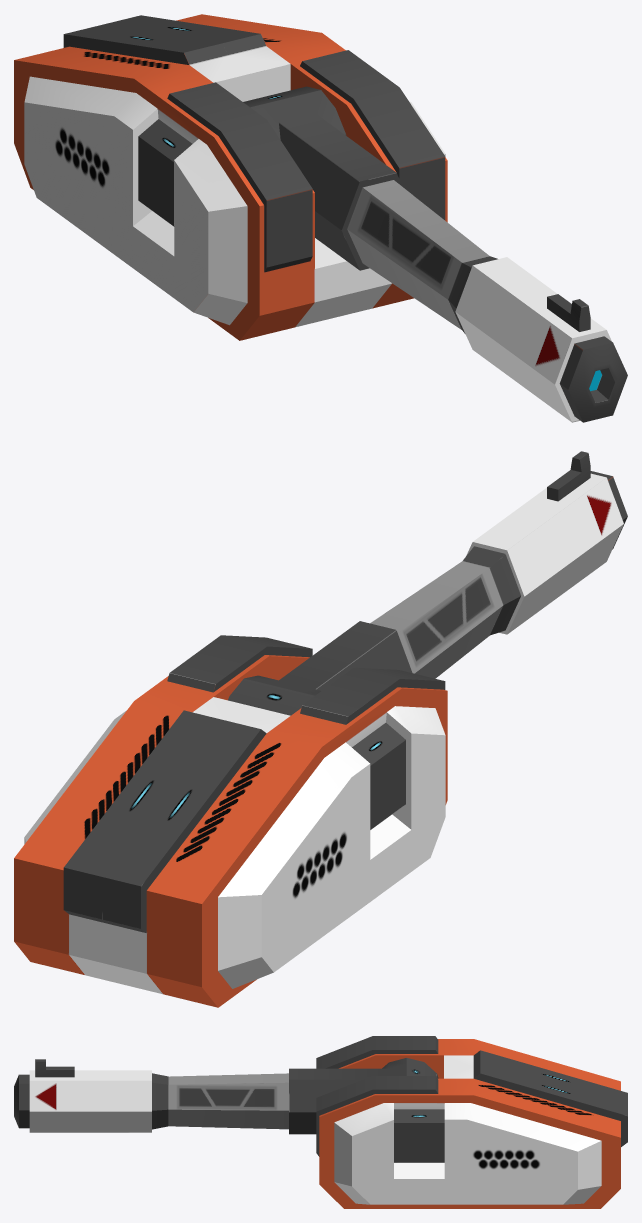
The picture shows the model from 3 angles, top to bottom: view 1: azimuth 30°, elevation 25°; view 2: azimuth 150°, elevation 25°; view 3: azimuth 270°, elevation 25°; orthographic projection. The views are drawn at different scales.
Visible parts, largest first — view 1: S Base, S Barrels; view 2: S Base, S Barrels; view 3: S Base, S Barrels.
Part boxes in pixels (x1,y1,x2,y2): S Base: (14, 14, 447, 340); S Barrels: (243, 86, 627, 422); S Base: (14, 635, 447, 1007); S Barrels: (228, 451, 627, 715); S Base: (316, 1036, 627, 1208); S Barrels: (14, 1057, 438, 1134).
Bounding box in the file's own units: 169 × 133 × 616.
Materials: 1 (1 with a texture image).
